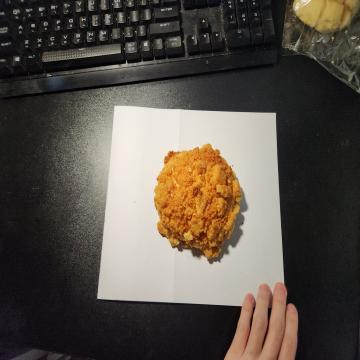soboru_bread: (153, 138, 241, 261)
